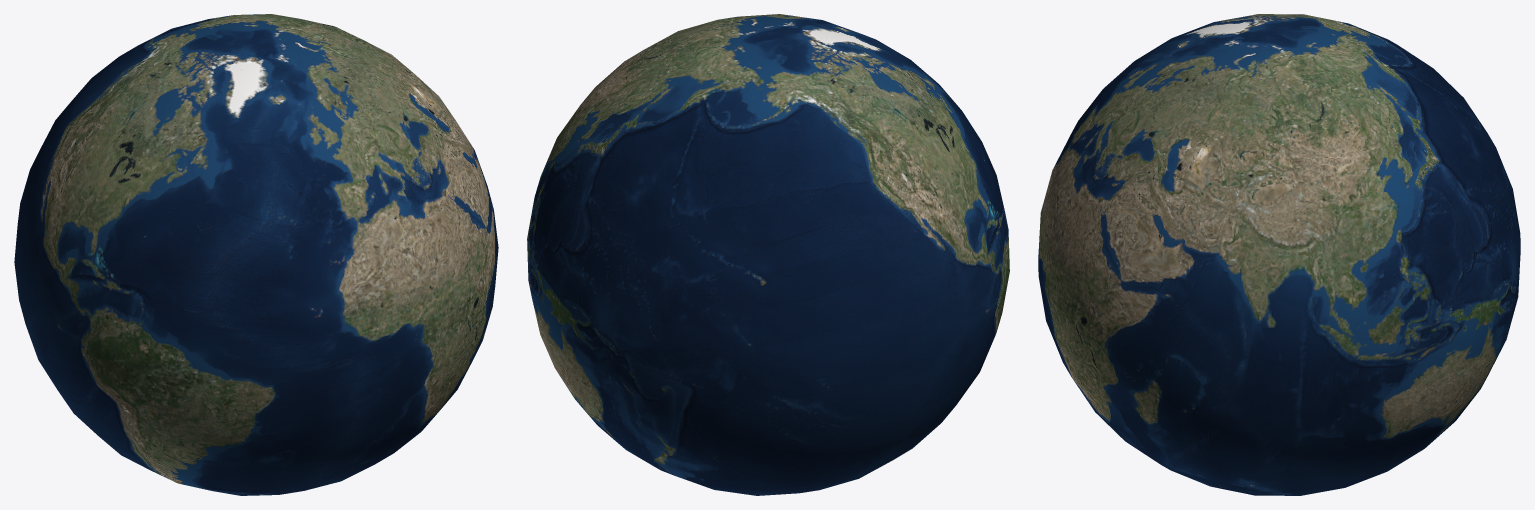
File: earth_10x10.fbx
3 views of the same model, side by side, from view 1: azimuth 30°, elevation 25°; view 2: azimuth 150°, elevation 25°; view 3: azimuth 270°, elevation 25° (orthographic).
Parts seen in each view (by area): view 1: Earth_Cube_002; view 2: Earth_Cube_002; view 3: Earth_Cube_002.
Part boxes in pixels (x1=…): Earth_Cube_002: x1=14, y1=14, x2=498, y2=495; Earth_Cube_002: x1=527, y1=14, x2=1009, y2=495; Earth_Cube_002: x1=1038, y1=14, x2=1520, y2=495.
Size of the model in its own units: 10 by 10 by 10.
Materials: 1 (1 with a texture image).
